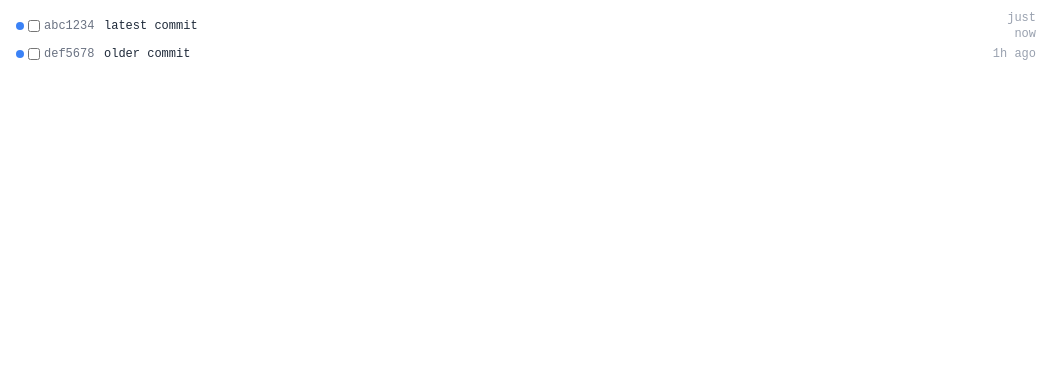
CommitLog commit row context menu › opens a context menu when a commit row is right-clicked
Right-click the text "latest commit": x=151, y=26 top-left (28, 12), bottom-right (1036, 40)
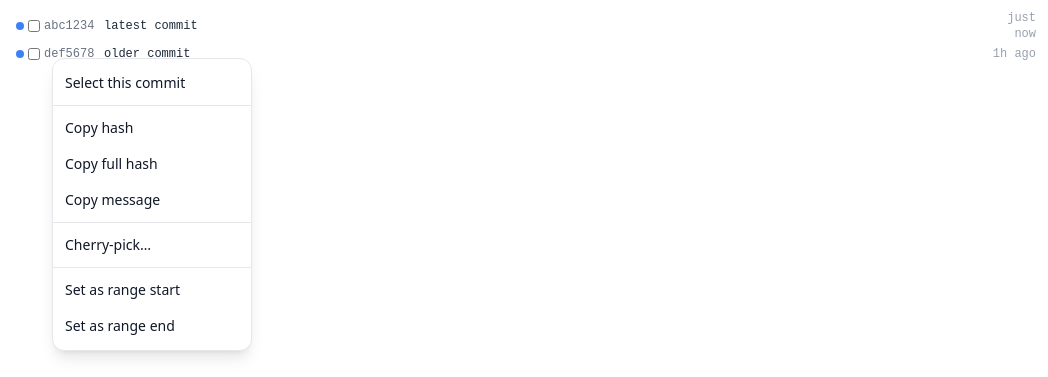
Now the menu is shown, box top-left (52, 58), bottom-right (252, 351)
